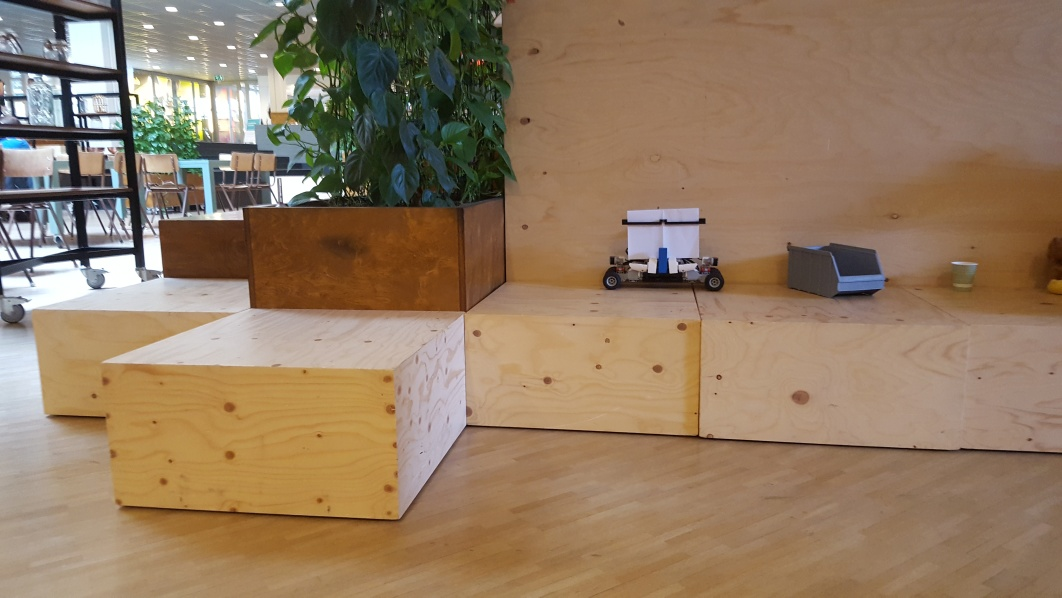car: (602, 205, 724, 291)
chicken: (1048, 234, 1062, 292)
cup: (948, 259, 980, 294)
tray: (784, 242, 886, 300)
